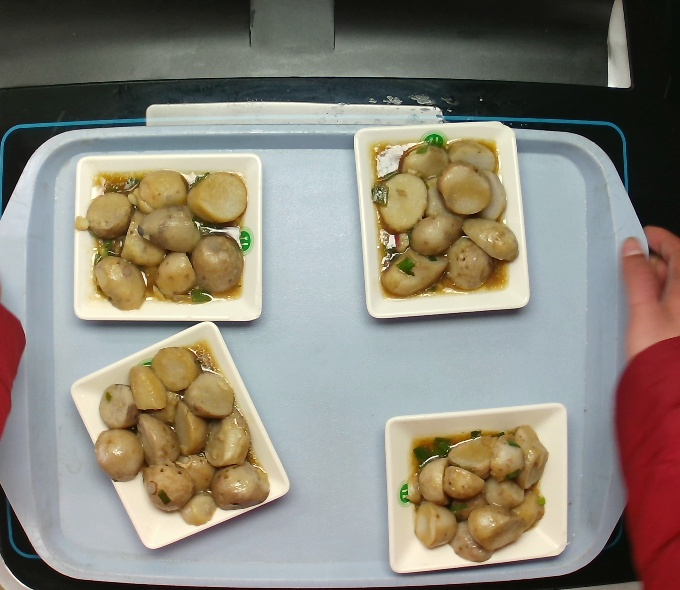wcq-YuTou: (88, 335, 275, 530), (68, 162, 253, 315), (363, 132, 523, 304), (401, 420, 553, 567)
